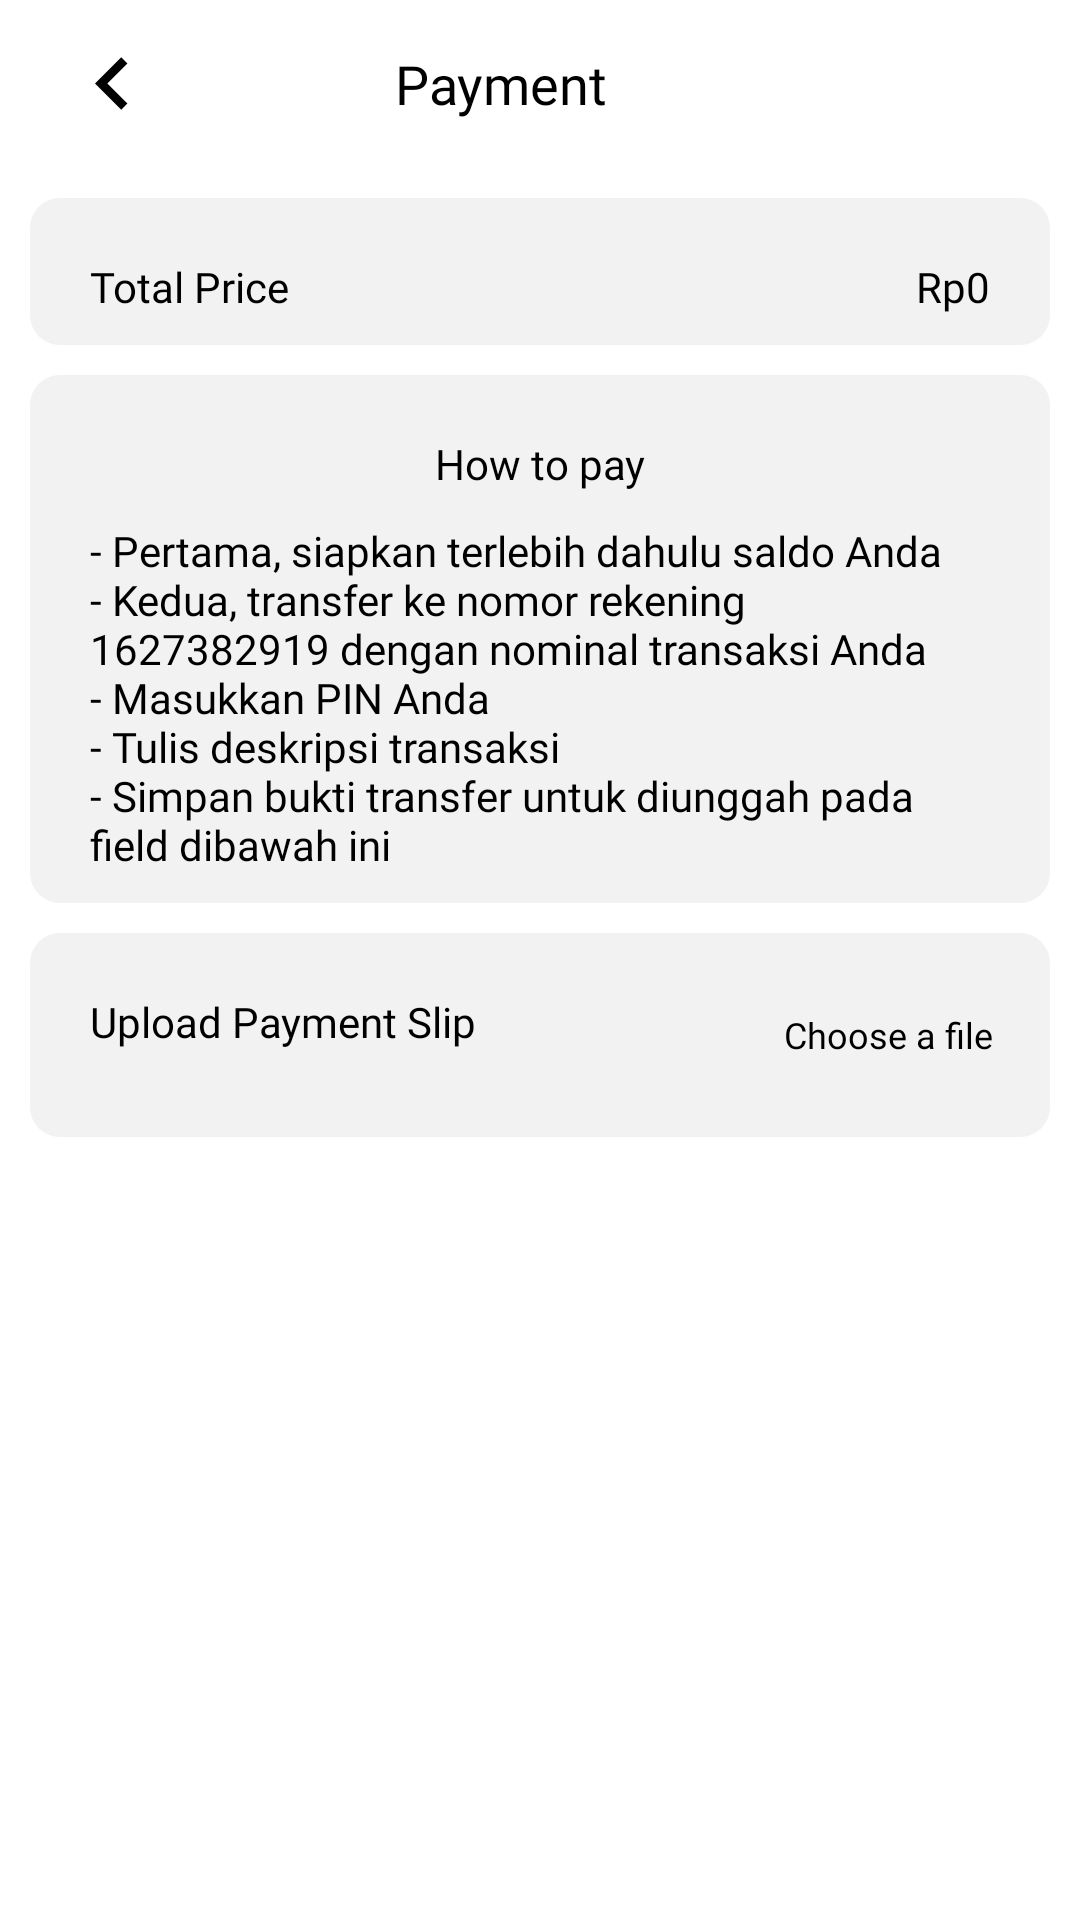

Locate icon controls on the screen. Image size 1080*1920, boxes as (x1, y1, x2, y2).
back: (95, 57, 128, 110)
